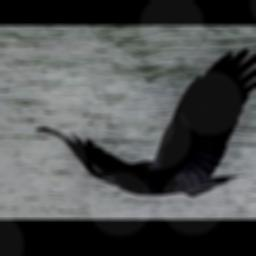Crow: (34, 48, 256, 198)
